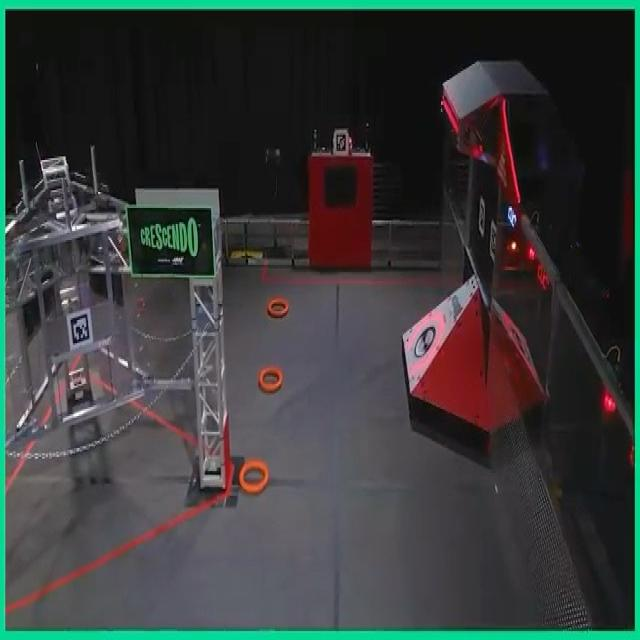note: (238, 460, 268, 495), (258, 365, 284, 391), (266, 299, 290, 320)
